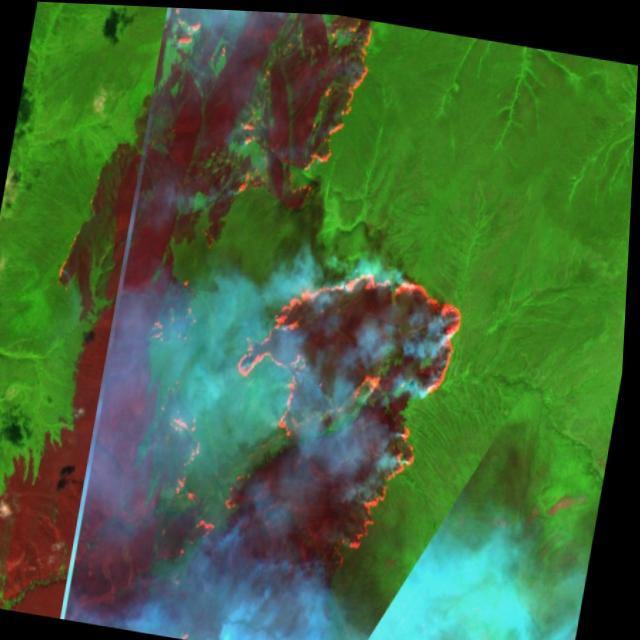fire: (122, 223, 475, 578), (141, 5, 379, 212)
